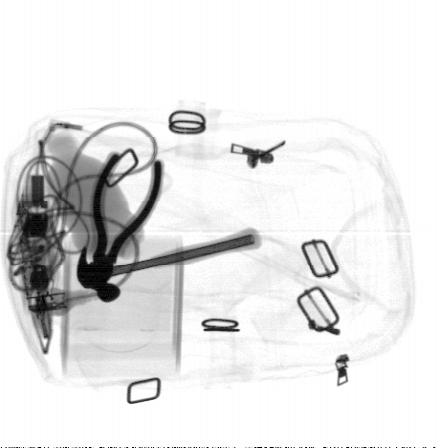Hammer: (76, 225, 261, 303)
Pliers: (92, 153, 162, 288)
